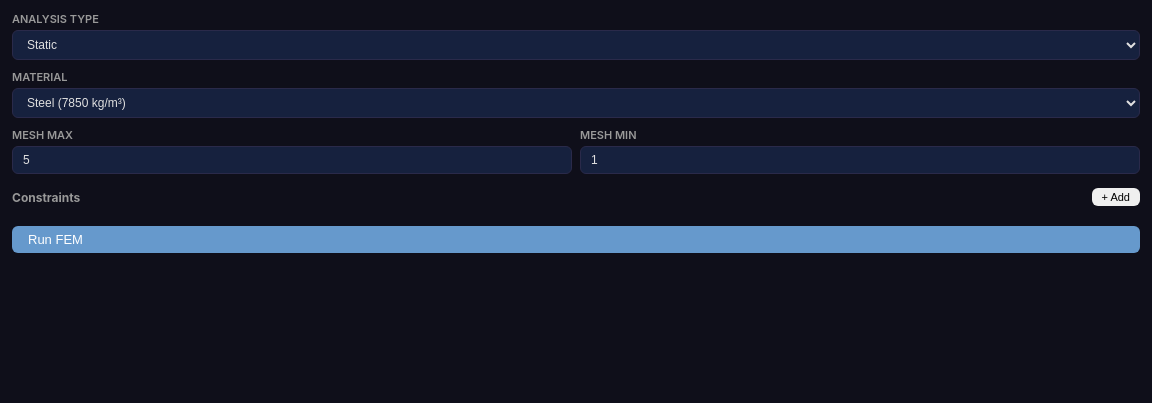
FemPanel › runs FEM and shows results
The width and height of the screenshot is (1152, 403).
Click the button "Run FEM" at (55, 240), box [12,226,1140,253]
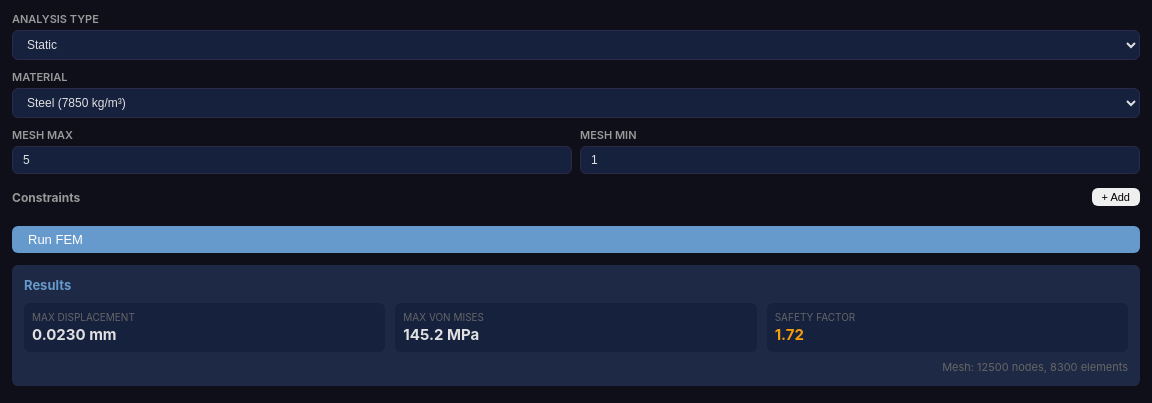
Result: the heading "Results" is shown at [24,277,71,293]
Result: the text "0.0230 mm" is shown at [32,325,116,344]
Result: the text "145.2 MPa" is shown at [403,325,479,344]
